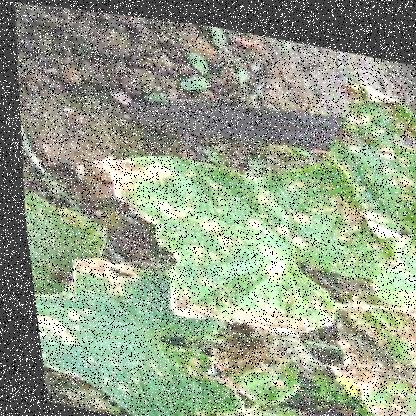Anthracnose: (170, 153, 316, 293), (162, 279, 306, 341), (84, 143, 179, 216), (57, 250, 142, 305), (29, 307, 81, 363)
